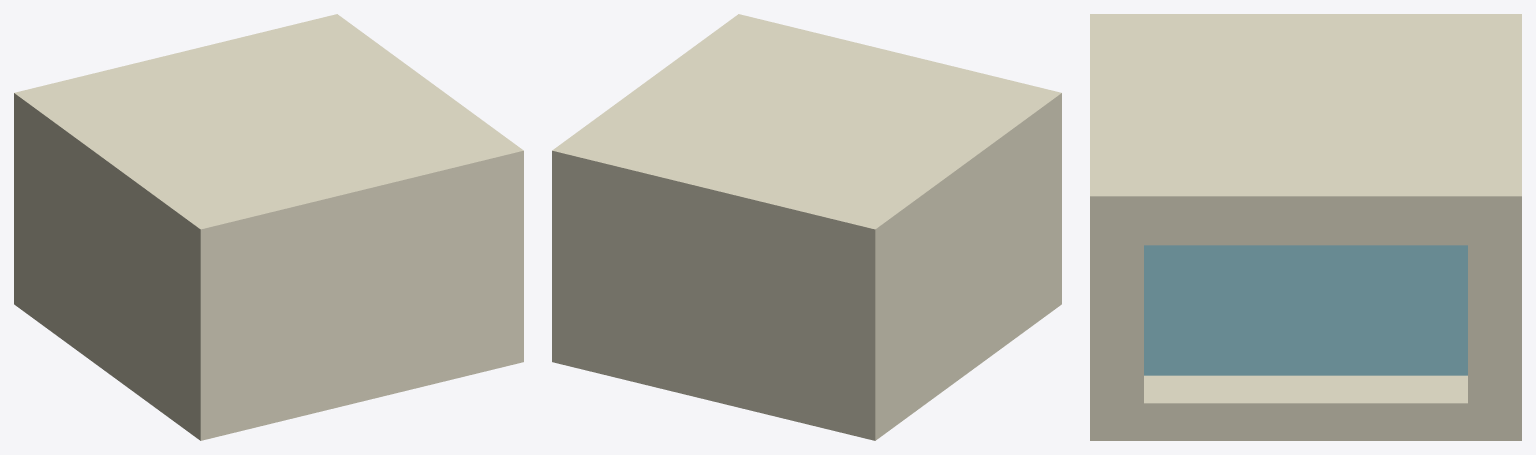
Rendered from building_040.fbx.
3 views of the same model, side by side, from view 1: azimuth 30°, elevation 25°; view 2: azimuth 150°, elevation 25°; view 3: azimuth 270°, elevation 25° (orthographic). The views are drawn at different scales.
Visible parts, largest first — view 1: building_040; view 2: building_040; view 3: building_040.
Boxes of the visible parts, bbox=[...] form: building_040: bbox=[14, 14, 523, 440]; building_040: bbox=[552, 14, 1061, 440]; building_040: bbox=[1090, 14, 1521, 440].
Bounding box in the file's own units: 10.5 × 6.25 × 10.
